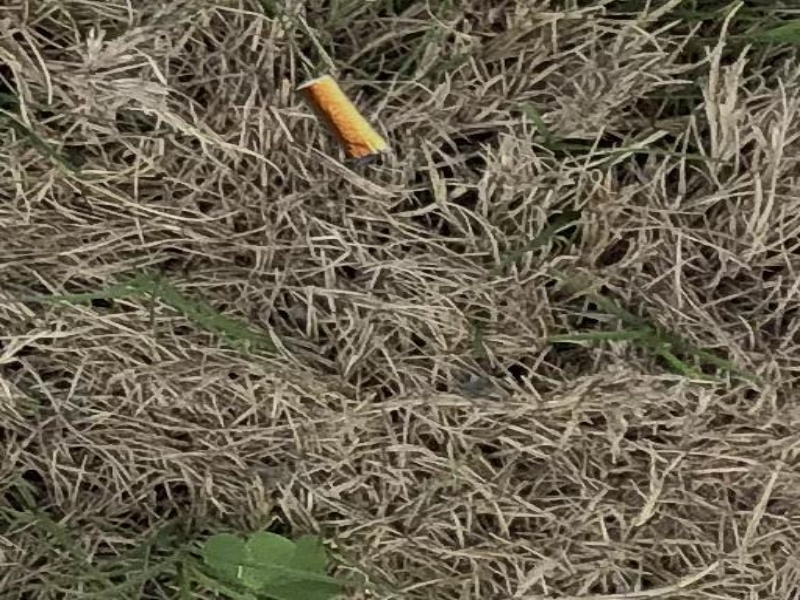cig: (292, 75, 392, 163)
